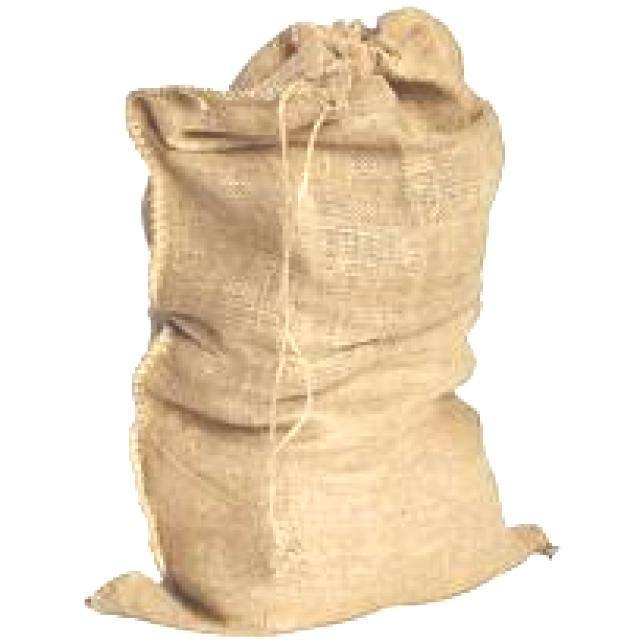gunny_bag: (71, 5, 569, 637)
